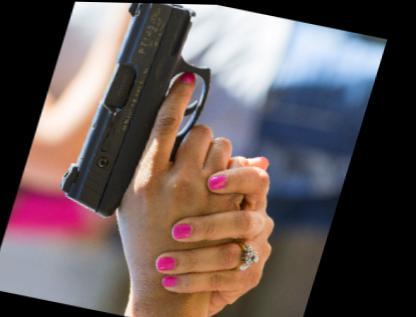pistol: (56, 2, 235, 229)
